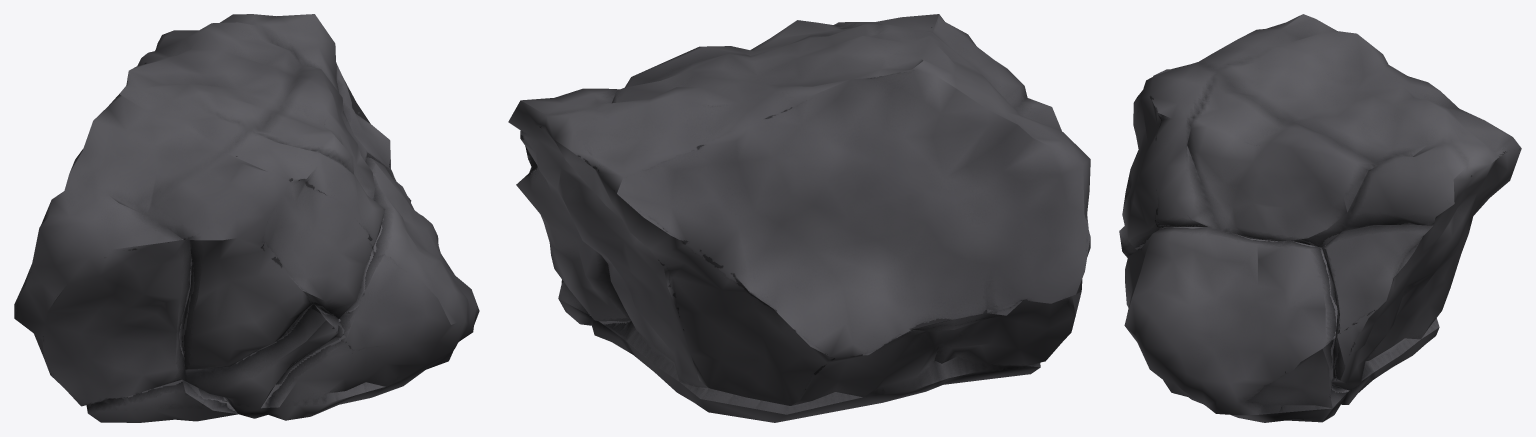
The model's file is piedra_oscura.fbx.
The picture shows the model from 3 angles, left to right: view 1: azimuth 30°, elevation 25°; view 2: azimuth 150°, elevation 25°; view 3: azimuth 270°, elevation 25°; orthographic projection. The views are drawn at different scales.
Visible parts, largest first — view 1: piedra_oscura; view 2: piedra_oscura; view 3: piedra_oscura.
Part boxes in pixels (bbox=[...]): piedra_oscura: bbox=[14, 14, 479, 422]; piedra_oscura: bbox=[508, 14, 1090, 422]; piedra_oscura: bbox=[1119, 14, 1521, 422].
Size of the model in its own units: 2.09 by 1.3 by 1.75.
1 material, 1 textured.
